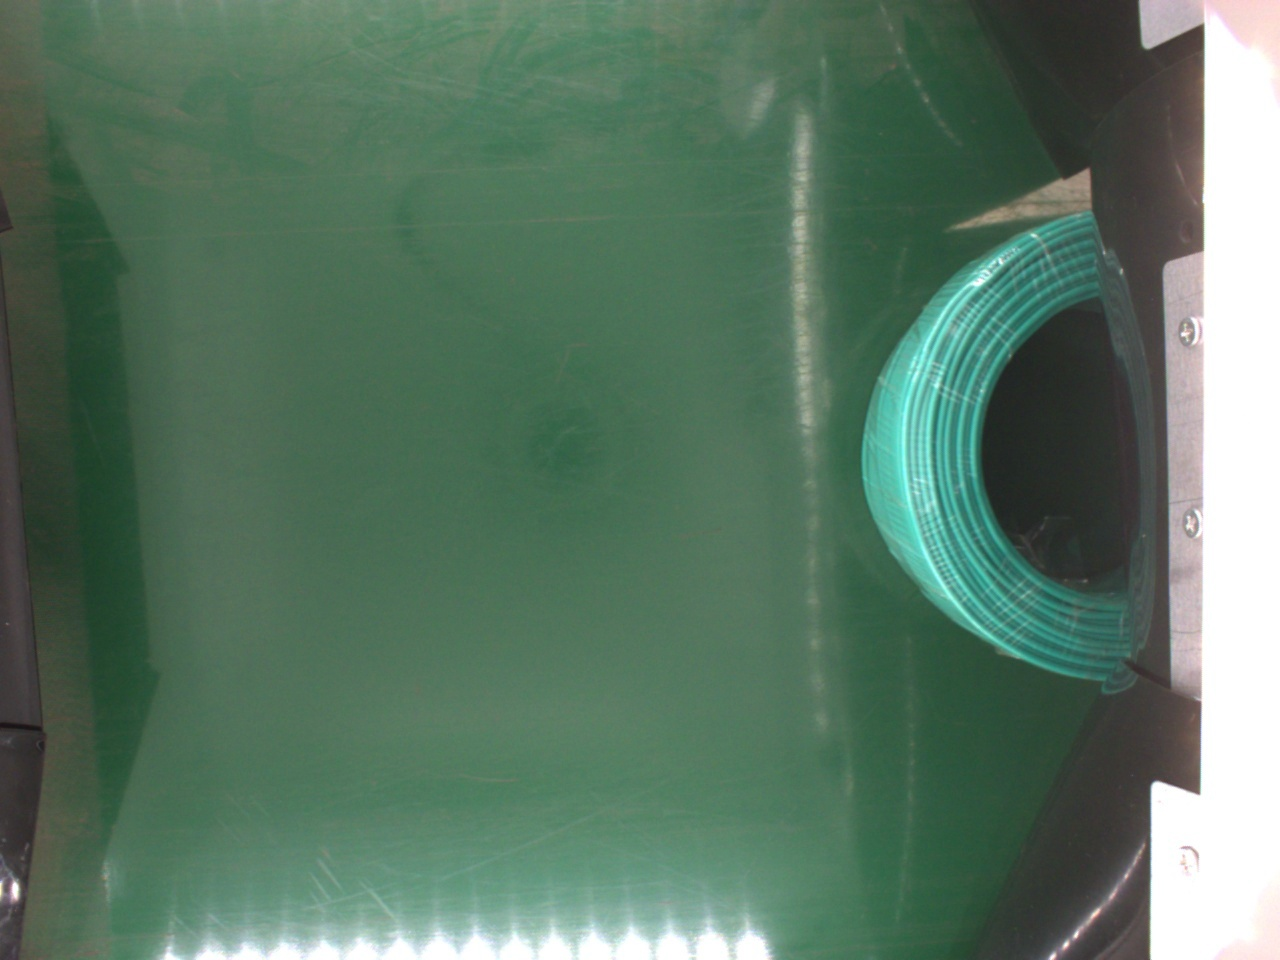green: (860, 213, 1146, 683)
